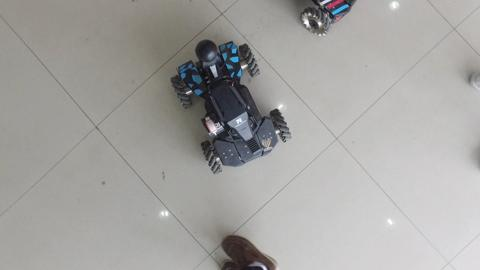chariot: (161, 38, 294, 180), (294, 1, 363, 42)
